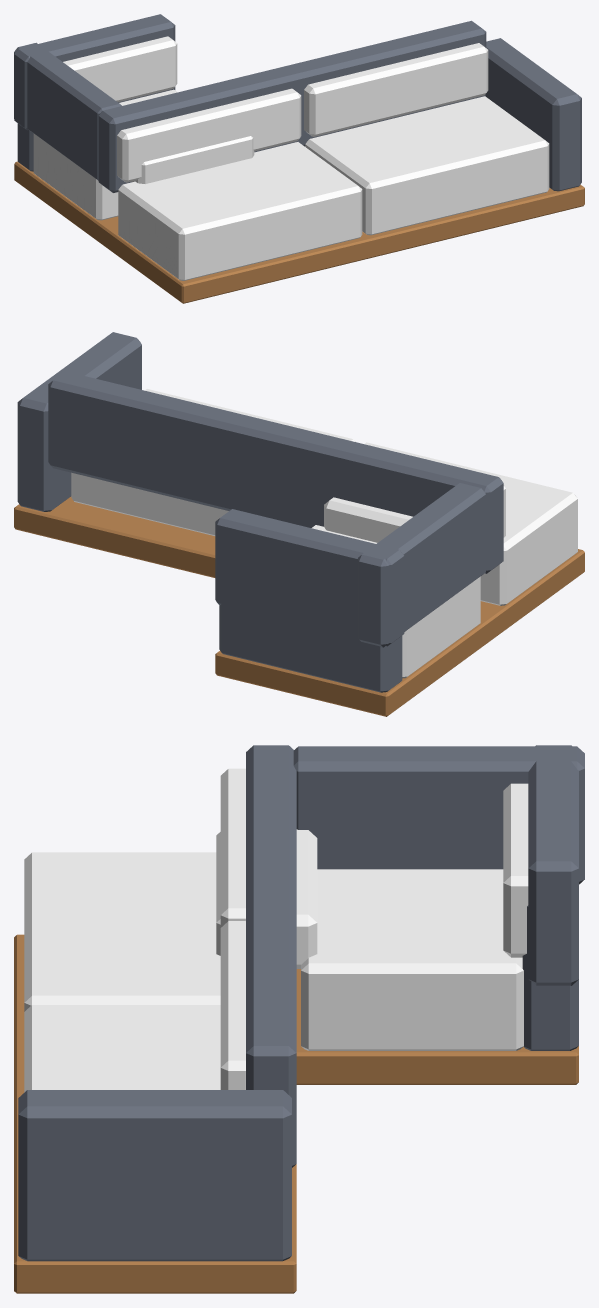
Rendered from sofa-corner.glb.
3 renders of one model, top to bottom at view 1: azimuth 30°, elevation 25°; view 2: azimuth 150°, elevation 25°; view 3: azimuth 270°, elevation 25°, orthographic. The views are drawn at different scales.
Visible parts, largest first — view 1: sofa-corner.tint, sofa-corner.fabric, sofa-corner.wood; view 2: sofa-corner.fabric, sofa-corner.tint, sofa-corner.wood; view 3: sofa-corner.fabric, sofa-corner.tint, sofa-corner.wood.
Part boxes in pixels (x1=…): sofa-corner.tint: x1=33, y1=36, x2=549, y2=280; sofa-corner.fabric: x1=14, y1=14, x2=581, y2=192; sofa-corner.wood: x1=14, y1=161, x2=584, y2=303; sofa-corner.fabric: x1=17, y1=332, x2=503, y2=692; sofa-corner.tint: x1=71, y1=389, x2=577, y2=678; sofa-corner.wood: x1=14, y1=496, x2=584, y2=716; sofa-corner.fabric: x1=18, y1=745, x2=584, y2=1261; sofa-corner.tint: x1=24, y1=768, x2=528, y2=1092; sofa-corner.wood: x1=14, y1=934, x2=578, y2=1293.
Bounding box in the file's own units: 2.6 × 0.82 × 1.9.
